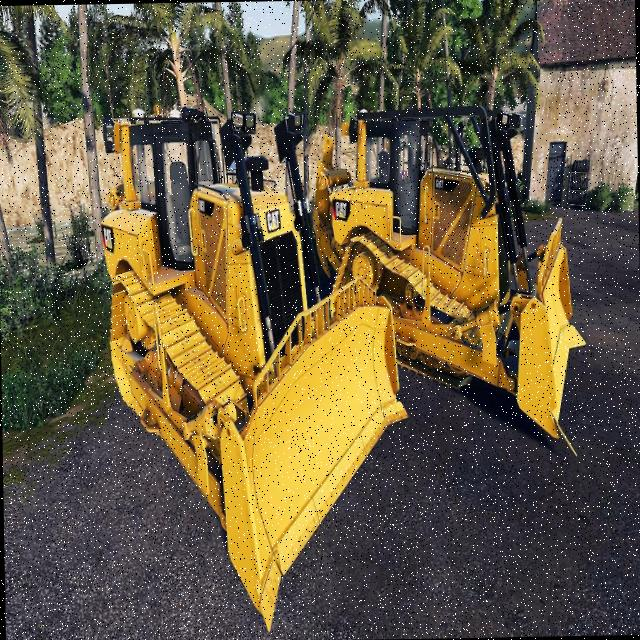Bulldozer: (90, 78, 428, 630)
